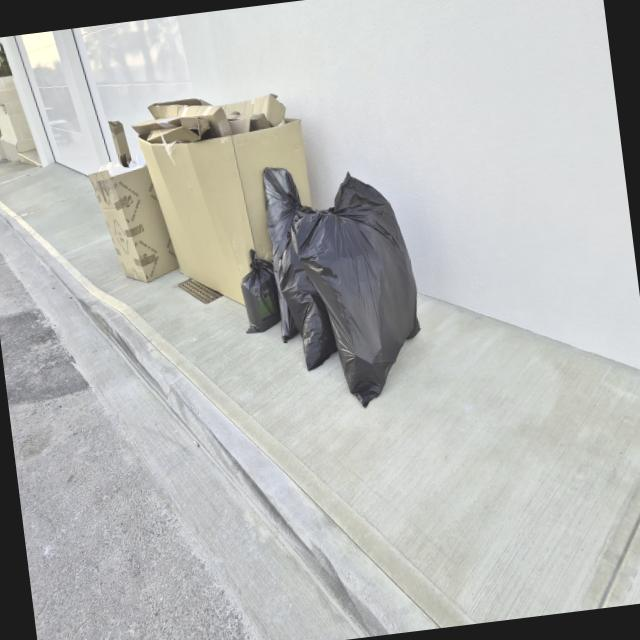black_bag: (291, 183, 448, 416), (253, 147, 345, 368), (234, 252, 286, 332)
other_waste: (134, 84, 320, 286), (99, 146, 172, 284)
